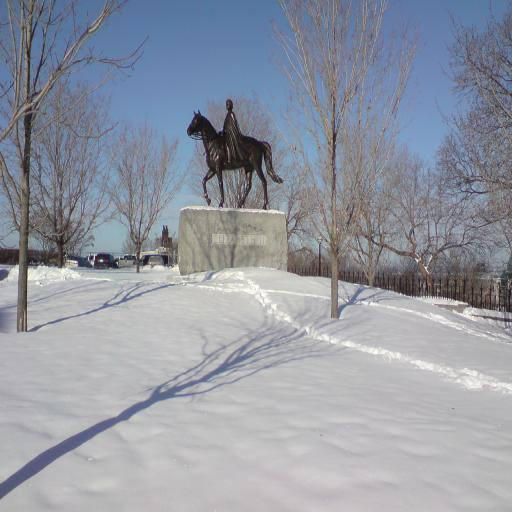horse: (186, 110, 284, 208)
